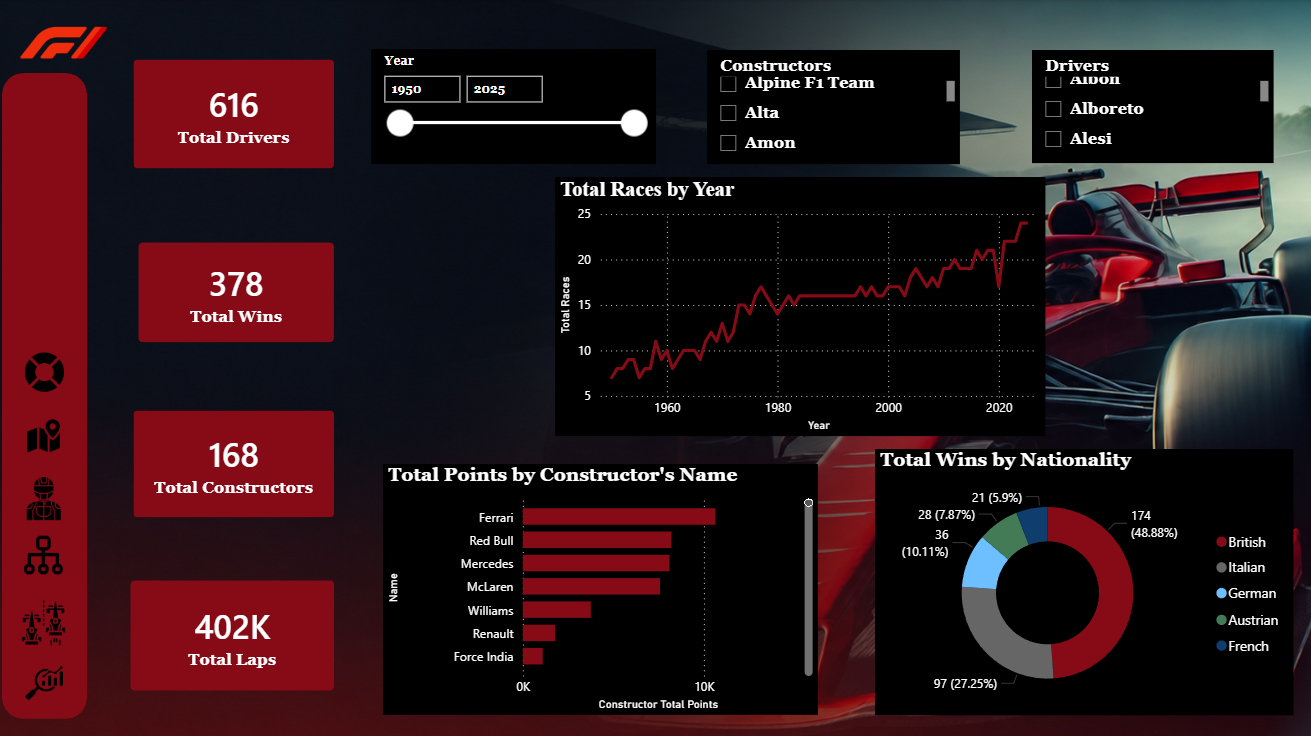

The dashboard page shown, as its layout file describes it:
{"tool":"powerbi","page":{"name":"F1 Overview ","canvas":[1280,720],"ordinal":0},"visuals":[{"type":"cardVisual","fields":{"Data":["results.Total Constructors"]},"box":[114.8,383.2,229.5,138.1],"z":0},{"type":"shape","box":[3.9,72,82.7,628.3],"z":1000},{"type":"group","id":"g1","title":"Group 2","box":[11.8,339.5,66.8,350.2],"z":2000},{"type":"slicer","fields":{"Values":["races.Date.Variation.Date Hierarchy.Year"]},"box":[362.8,48.6,277.2,110.9],"z":3000},{"type":"cardVisual","fields":{"Data":["results.Total Wins"]},"box":[119.6,219.8,224.7,131.3],"z":4000},{"type":"image","box":[7.8,0,111.9,84.6],"z":5000},{"type":"slicer","fields":{"Values":["constructors.Name"]},"box":[689.6,49.6,246.1,110.9],"z":6000},{"type":"barChart","title":"Total Points by Constructor''s Name","fields":{"Y":["constructor_standings.Constructor Total Points"],"Category":["constructors.Name"]},"box":[374.5,452.3,423.1,244.1],"z":7000},{"type":"slicer","fields":{"Values":["drivers.FamilyName"]},"box":[1005.7,49.6,235.4,109.9],"z":8000},{"type":"image","box":[28.5,397.9,31.8,54.5],"z":8000,"group":"g1"},{"type":"lineChart","fields":{"Y":["races.Total Races"],"Category":["races.Date.Variation.Date Hierarchy.Year"]},"box":[541.8,173.1,476.6,251.9],"z":9000},{"type":"image","box":[17.4,465,54.1,41.8],"z":9000,"group":"g1"},{"type":"cardVisual","fields":{"Data":["results.Total Drivers"]},"box":[114.8,41.8,229.5,140.1],"z":10000},{"type":"image","box":[22.9,583.6,43.7,45.7],"z":10000,"group":"g1"},{"type":"image","box":[13.4,521.4,61.2,38.9],"z":11000,"group":"g1"},{"type":"cardVisual","fields":{"Data":["results.Total Laps"]},"box":[111.9,548.6,232.5,141],"z":11000},{"type":"donutChart","fields":{"Category":["constructors.Nationality"],"Y":["results.Total Wins"]},"box":[853,437.7,406.6,258.7],"z":12000},{"type":"image","box":[25.3,642,39,47.7],"z":12000,"group":"g1"},{"type":"image","box":[11.8,339.5,66.8,46.7],"z":14000,"group":"g1"}]}

Visuals, with their boxes in screenshot pixels (x1, y1, x2, y2), scaled from the page's 1280x720 canvas onto the 1311x736 screenshot:
cardVisual - results.Total Constructors: x1=118, y1=392, x2=353, y2=533
shape: x1=4, y1=74, x2=89, y2=716
"Group 2" group: x1=12, y1=347, x2=81, y2=705
slicer - races.Date.Variation.Date Hierarchy.Year: x1=372, y1=50, x2=656, y2=163
cardVisual - results.Total Wins: x1=122, y1=225, x2=353, y2=359
image: x1=8, y1=0, x2=123, y2=86
slicer - constructors.Name: x1=706, y1=51, x2=958, y2=164
"Total Points by Constructor''s Name" barChart: x1=384, y1=462, x2=817, y2=712
slicer - drivers.FamilyName: x1=1030, y1=51, x2=1271, y2=163
image: x1=29, y1=407, x2=62, y2=462
lineChart - races.Total Races x races.Date.Variation.Date Hierarchy.Year: x1=555, y1=177, x2=1043, y2=434
image: x1=18, y1=475, x2=73, y2=518
cardVisual - results.Total Drivers: x1=118, y1=43, x2=353, y2=186
image: x1=23, y1=597, x2=68, y2=643
image: x1=14, y1=533, x2=76, y2=573
cardVisual - results.Total Laps: x1=115, y1=561, x2=353, y2=705
donutChart - constructors.Nationality x results.Total Wins: x1=874, y1=447, x2=1290, y2=712
image: x1=26, y1=656, x2=66, y2=705
image: x1=12, y1=347, x2=81, y2=395
